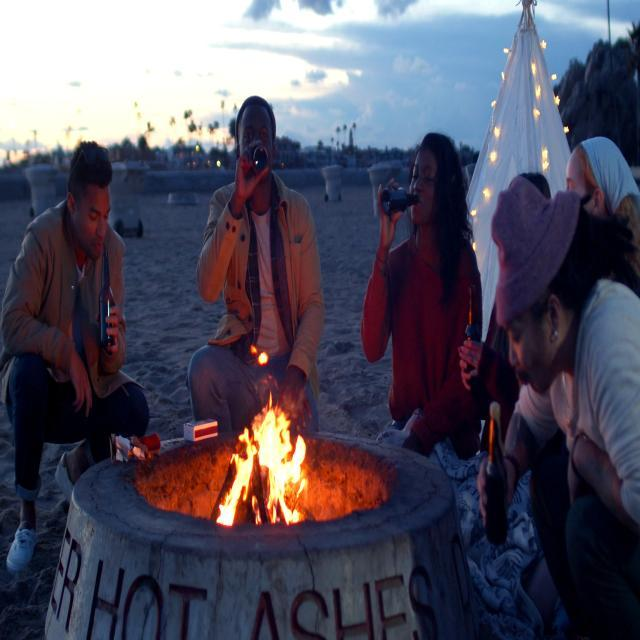Fire: (216, 390, 311, 527)
